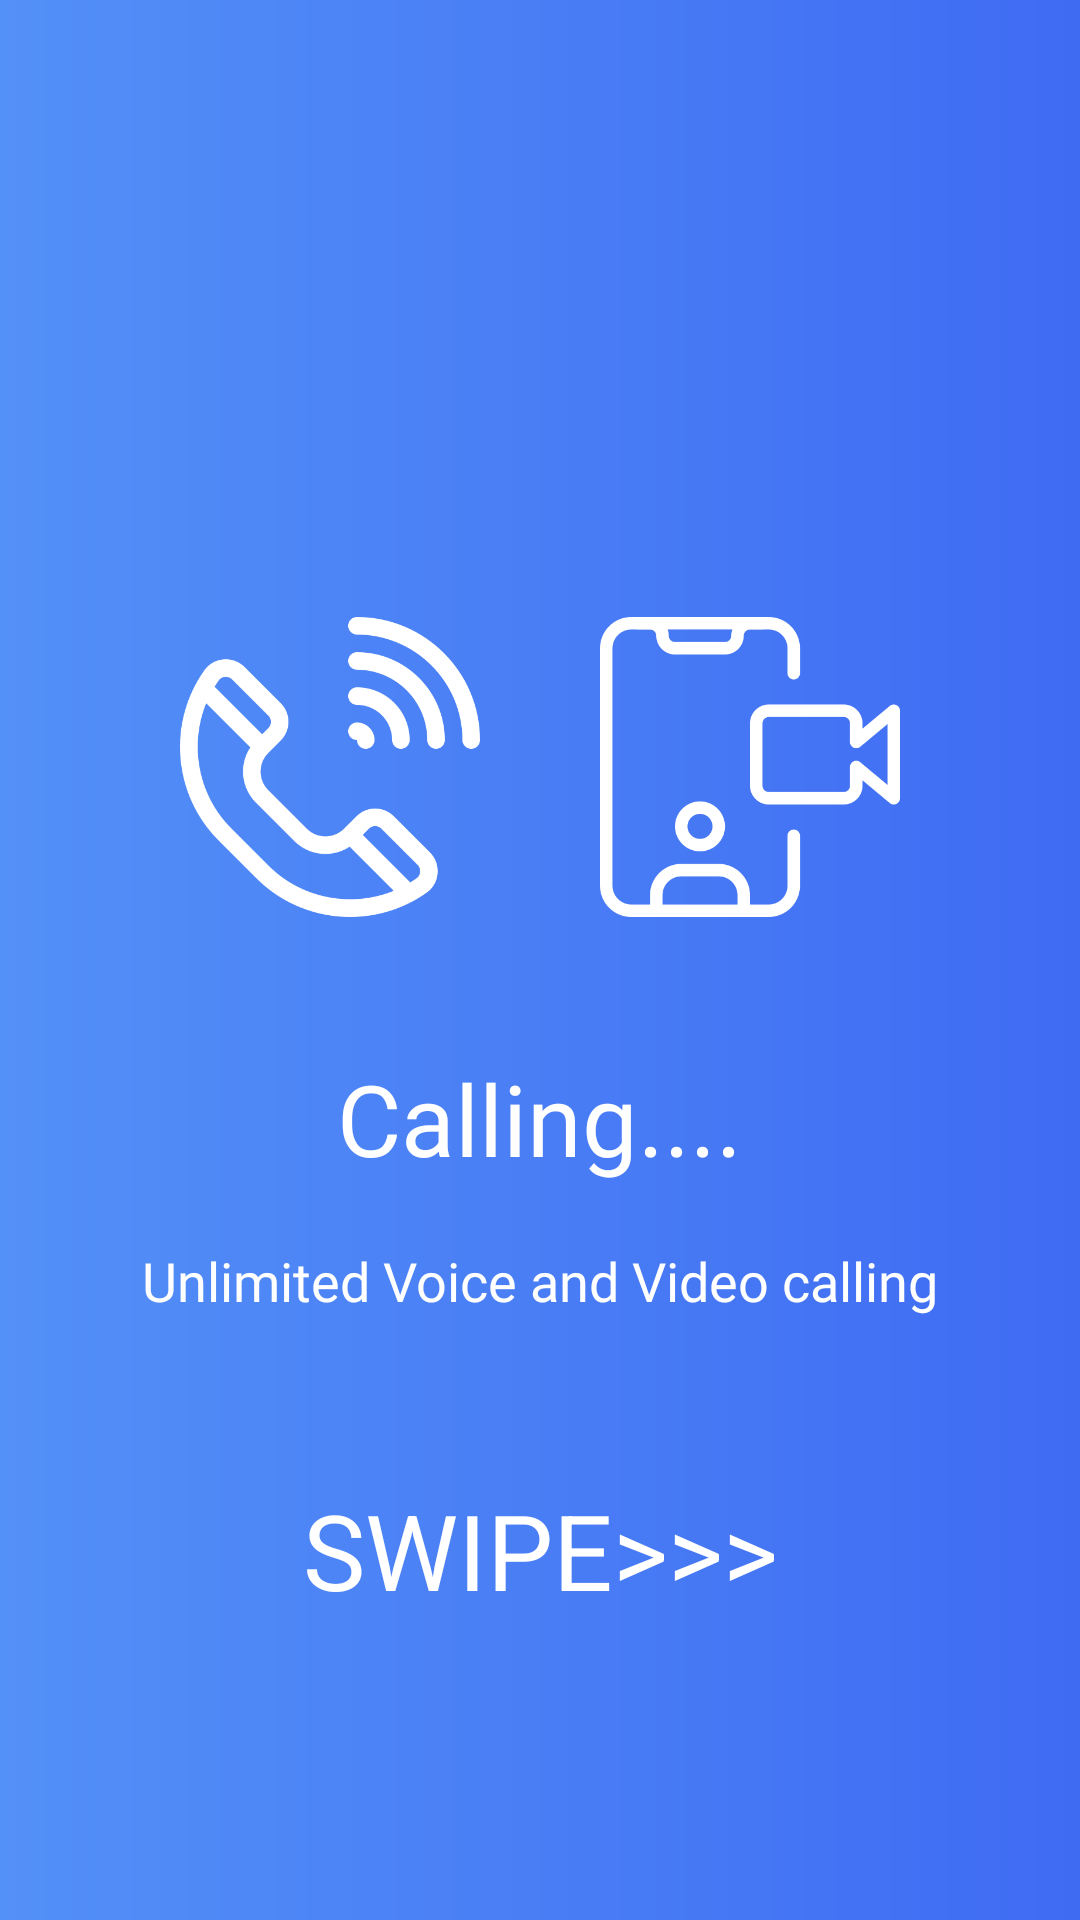

Screen size 1080 x 1920. Icon name, then its center in pixels as [x,y]:
phone: [330,767]
video call: [750,767]
